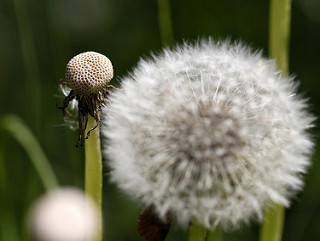dandelion white: (99, 32, 318, 233)
